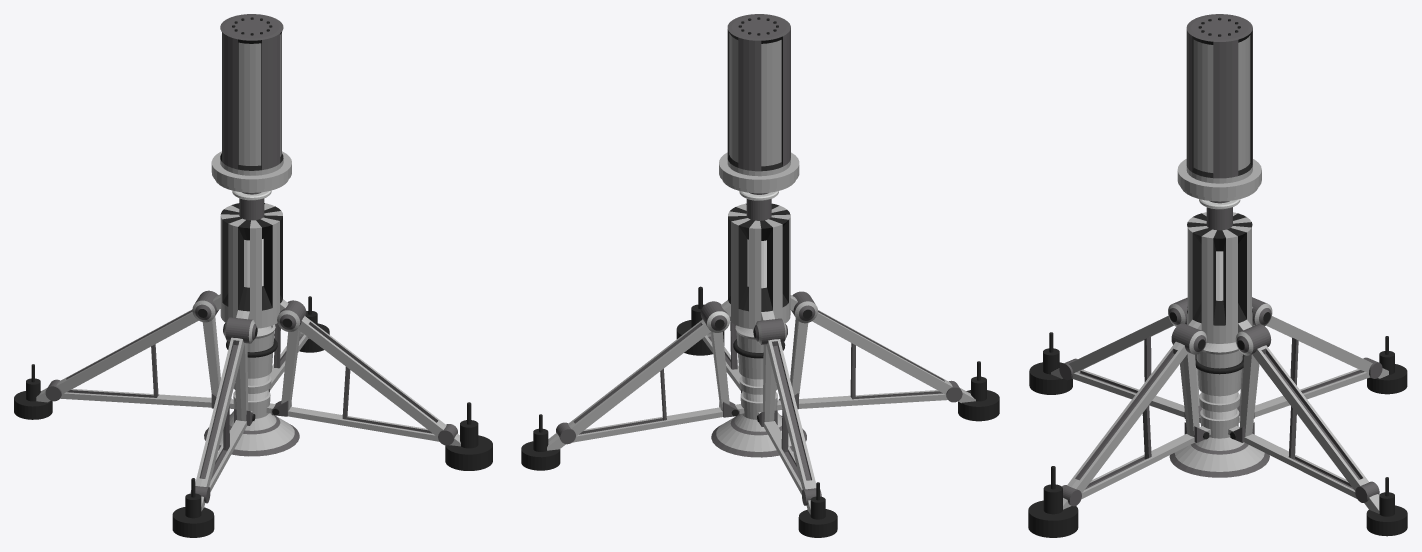
The model's file is Radar_Jammer_Large_Constr3.fbx.
3 views of the same model, side by side, from view 1: azimuth 30°, elevation 25°; view 2: azimuth 150°, elevation 25°; view 3: azimuth 270°, elevation 25° (orthographic). The views are drawn at different scales.
Visible parts, largest first — view 1: Cylinder.029, Cylinder.027, Cylinder.026, Cylinder.025, Cylinder.020, Cylinder.017, Cylinder.019; view 2: Cylinder.029, Cylinder.026, Cylinder.025, Cylinder.028, Cylinder.027, Cylinder.019, Cylinder.018, Cylinder.020; view 3: Cylinder.029, Cylinder.027, Cylinder.026, Cylinder.028, Cylinder.025, Cylinder.018, Cylinder.017, Cylinder.019.
Part boxes in pixels (left/top/right/bottom): Cylinder.029: left=36, top=14, right=460, bottom=511; Cylinder.027: left=445, top=402, right=492, bottom=470; Cylinder.026: left=172, top=478, right=214, bottom=537; Cylinder.025: left=14, top=364, right=52, bottom=419; Cylinder.020: left=223, top=317, right=257, bottom=343; Cylinder.017: left=277, top=300, right=306, bottom=331; Cylinder.019: left=192, top=290, right=218, bottom=322; Cylinder.029: left=547, top=14, right=975, bottom=514; Cylinder.026: left=958, top=361, right=999, bottom=421; Cylinder.025: left=798, top=482, right=837, bottom=537; Cylinder.028: left=521, top=414, right=560, bottom=470; Cylinder.027: left=676, top=286, right=724, bottom=355; Cylinder.019: left=753, top=318, right=787, bottom=344; Cylinder.018: left=700, top=301, right=729, bottom=332; Cylinder.020: left=791, top=291, right=817, bottom=323; Cylinder.029: left=1051, top=14, right=1388, bottom=513; Cylinder.027: left=1028, top=466, right=1078, bottom=537; Cylinder.026: left=1029, top=332, right=1072, bottom=394; Cylinder.028: left=1366, top=477, right=1407, bottom=536; Cylinder.025: left=1367, top=336, right=1407, bottom=394; Cylinder.018: left=1235, top=324, right=1271, bottom=355; Cylinder.017: left=1171, top=323, right=1206, bottom=354; Cylinder.019: left=1252, top=297, right=1272, bottom=325.
Bounding box in the file's own units: 8.89 × 11.06 × 8.84.
